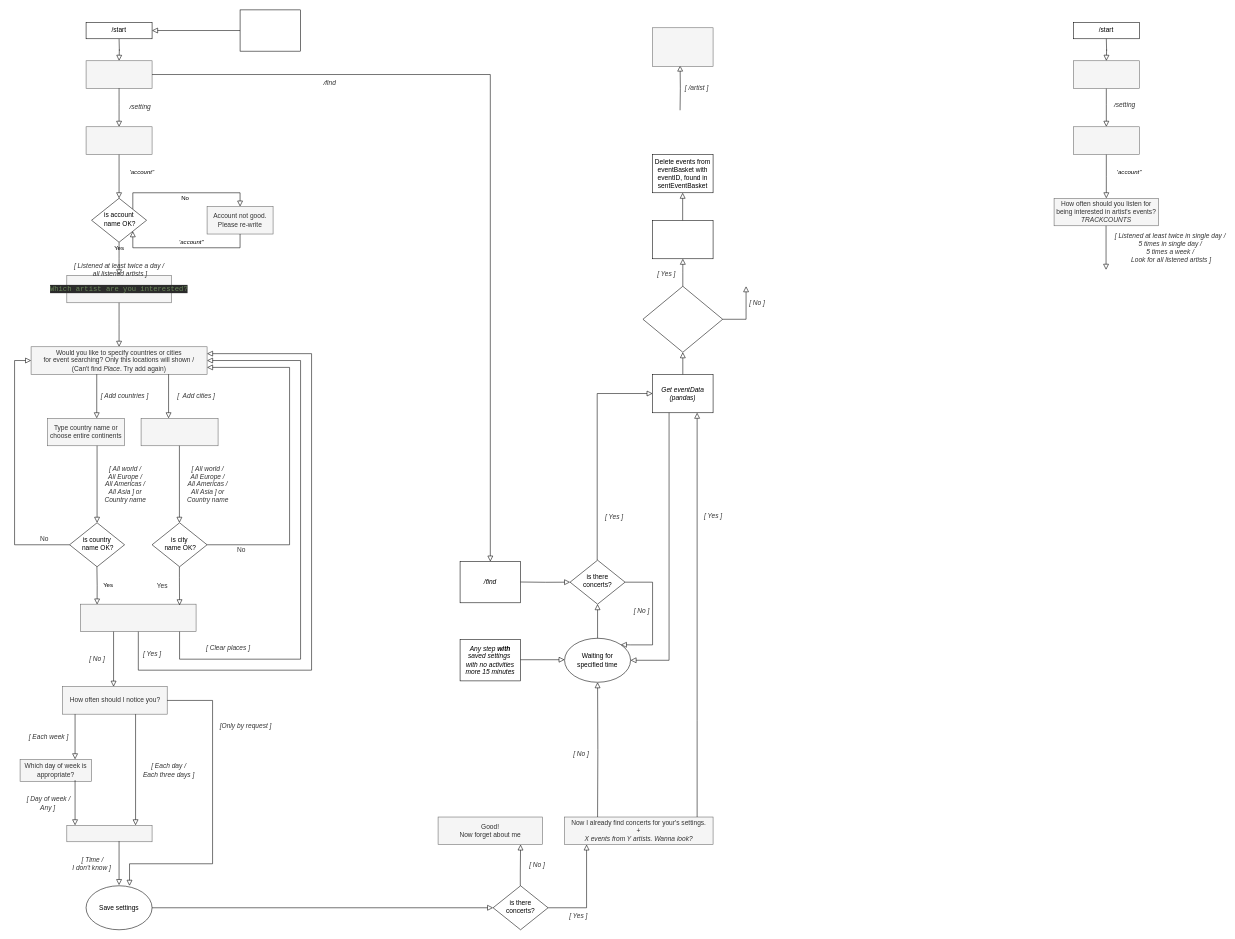
Image size: 1235x939. Some labels were removed from this diagram. Each missing label, with the centre of its shape:
"Any step without saved settings with answer awaiting more 15 minutes" goes at point 270,30.
"Artist's event list" goes at point 682,46.
"Enter your last.fm account" goes at point 119,140.
"Enter your last.fm account USERNAME" goes at point 1106,140.
"Hello, I am bot press /setting" goes at point 1106,74.
"Hello, I am bot press /setting or /find" goes at point 119,74.
"is there sentEventData?" goes at point 682,319.
"Make a copy and clean it for date-complete events" goes at point 682,239.
"Place added. Want to add another?" goes at point 138,618.
"Type city" goes at point 179,432.
"Which time is appropriate?" goes at point 109,833.
